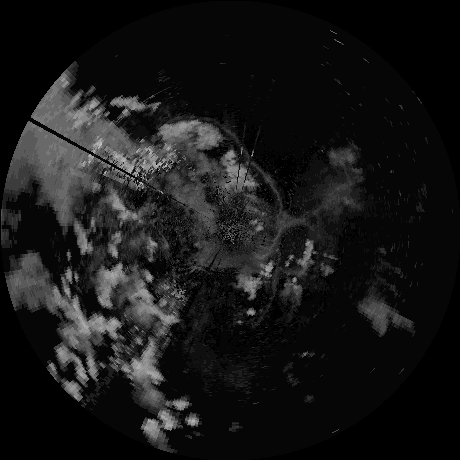frontgust: (253, 254, 283, 322), (256, 163, 282, 239), (224, 126, 254, 160)
